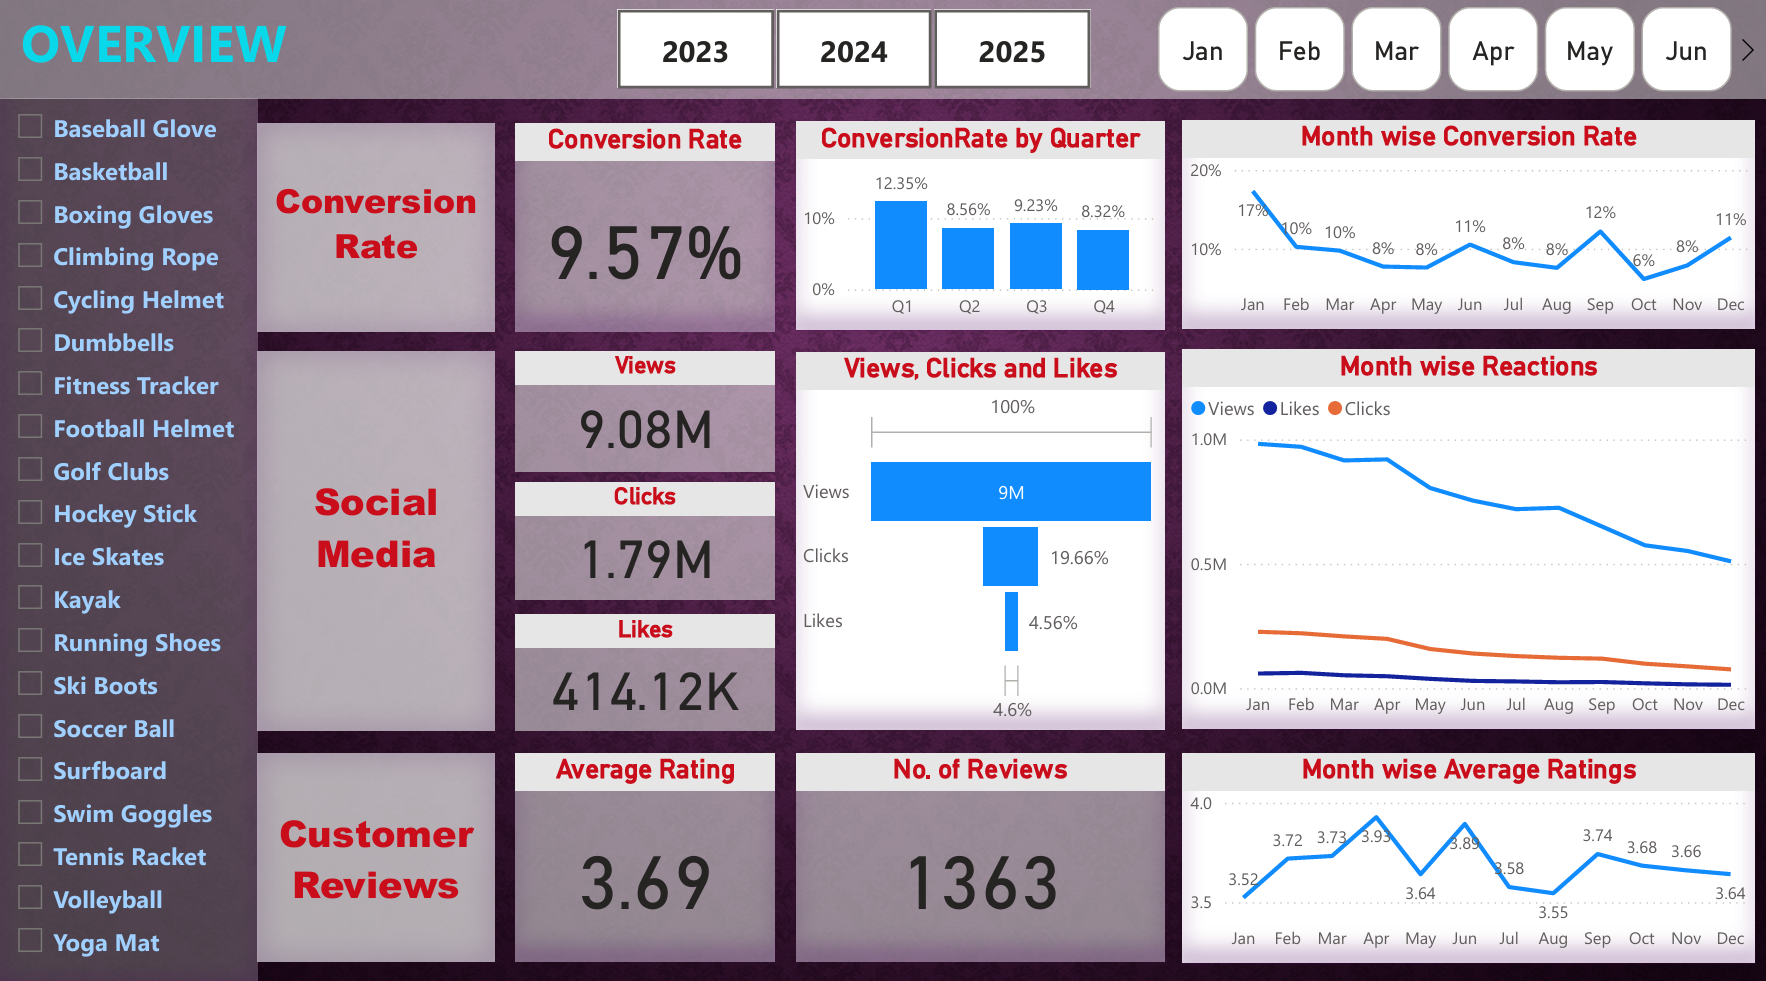

Layout of this report page (visuals, bound fields, positions):
{"tool":"powerbi","page":{"name":"Overview","canvas":[1280,720],"ordinal":0},"visuals":[{"type":"textbox","box":[0,0,1280,71.2],"z":0},{"type":"textbox","box":[186.2,545,171.2,151.2],"z":1000},{"type":"textbox","box":[186.2,88.8,171.2,151.2],"z":2000},{"type":"textbox","box":[186.2,253.8,171.2,275],"z":3000},{"type":"card","title":"Conversion Rate","fields":{"Values":["_Calculation.ConversionRate"]},"box":[372.5,88.8,188.8,151.2],"z":4000},{"type":"card","title":"Views","fields":{"Values":["_Calculation.SumOfViews"]},"box":[372.5,253.8,188.8,87.5],"z":5000},{"type":"card","title":"Average Rating","fields":{"Values":["_Calculation.AvgOfRating"]},"box":[372.5,545,188.8,151.2],"z":6000},{"type":"card","title":"Clicks","fields":{"Values":["_Calculation.SumOfClicks"]},"box":[372.5,348.8,188.8,85],"z":7000},{"type":"card","title":"Likes","fields":{"Values":["_Calculation.SumOfLikes"]},"box":[372.5,445,188.8,83.8],"z":8000},{"type":"lineChart","title":"Month wise Conversion Rate","fields":{"Y":["_Calculation.ConversionRate"],"Category":["Calendar.MonthNameShort"]},"box":[855.8,87.2,414,151.2],"z":9000},{"type":"lineChart","title":"Month wise Reactions","fields":{"Category":["Calendar.MonthNameShort"],"Y":["_Calculation.SumOfViews","_Calculation.SumOfLikes","_Calculation.SumOfClicks"]},"box":[855.8,253.5,414,274.4],"z":10000},{"type":"lineChart","title":"Month wise Average Ratings","fields":{"Category":["Calendar.MonthNameShort"],"Y":["_Calculation.AvgOfRating"]},"box":[855.8,545.4,414,151.2],"z":11000},{"type":"card","title":"No. of Reviews","fields":{"Values":["_Calculation.NumberOfCustomerReview"]},"box":[576.2,545,266.2,151.2],"z":12000},{"type":"funnel","fields":{"Y":["_Calculation.SumOfViews","_Calculation.SumOfClicks","_Calculation.SumOfLikes"]},"box":[576.2,255,266.2,272.5],"z":13000},{"type":"columnChart","fields":{"Category":["Calendar.Quarter"],"Y":["_Calculation.ConversionRate"]},"box":[576.2,87.5,266.2,151.2],"z":14000},{"type":"slicer","fields":{"Values":["Calendar.Year"]},"box":[421.2,0,391.2,71.2],"z":15000},{"type":"slicer","fields":{"Values":["dim_products.ProductName"]},"box":[0,71.2,186.2,648.8],"z":17000},{"type":"shape","box":[186,87.2,170.9,152.3],"z":18000},{"type":"shape","box":[186,253.5,170.9,275.6],"z":19000},{"type":"shape","box":[186,544.2,170.9,152.3],"z":20000},{"type":"pageNavigator","box":[805.1,10,464.5,50.2],"z":20001}]}

Visuals, with their boxes in screenshot pixels (x1, y1, x2, y2), scaled from the page's 1280x720 canvas onto the 1766x981 screenshot:
textbox: (left=0, top=0, right=1765, bottom=97)
textbox: (left=257, top=743, right=493, bottom=949)
textbox: (left=257, top=121, right=493, bottom=327)
textbox: (left=257, top=346, right=493, bottom=720)
"Conversion Rate" card: (left=514, top=121, right=774, bottom=327)
"Views" card: (left=514, top=346, right=774, bottom=465)
"Average Rating" card: (left=514, top=743, right=774, bottom=949)
"Clicks" card: (left=514, top=475, right=774, bottom=591)
"Likes" card: (left=514, top=606, right=774, bottom=720)
"Month wise Conversion Rate" lineChart: (left=1181, top=119, right=1752, bottom=325)
"Month wise Reactions" lineChart: (left=1181, top=345, right=1752, bottom=719)
"Month wise Average Ratings" lineChart: (left=1181, top=743, right=1752, bottom=949)
"No. of Reviews" card: (left=795, top=743, right=1162, bottom=949)
funnel - _Calculation.SumOfViews x _Calculation.SumOfClicks: (left=795, top=347, right=1162, bottom=719)
columnChart - Calendar.Quarter x _Calculation.ConversionRate: (left=795, top=119, right=1162, bottom=325)
slicer - Calendar.Year: (left=581, top=0, right=1121, bottom=97)
slicer - dim_products.ProductName: (left=0, top=97, right=257, bottom=980)
shape: (left=257, top=119, right=492, bottom=326)
shape: (left=257, top=345, right=492, bottom=721)
shape: (left=257, top=741, right=492, bottom=949)
pageNavigator: (left=1111, top=14, right=1752, bottom=82)
